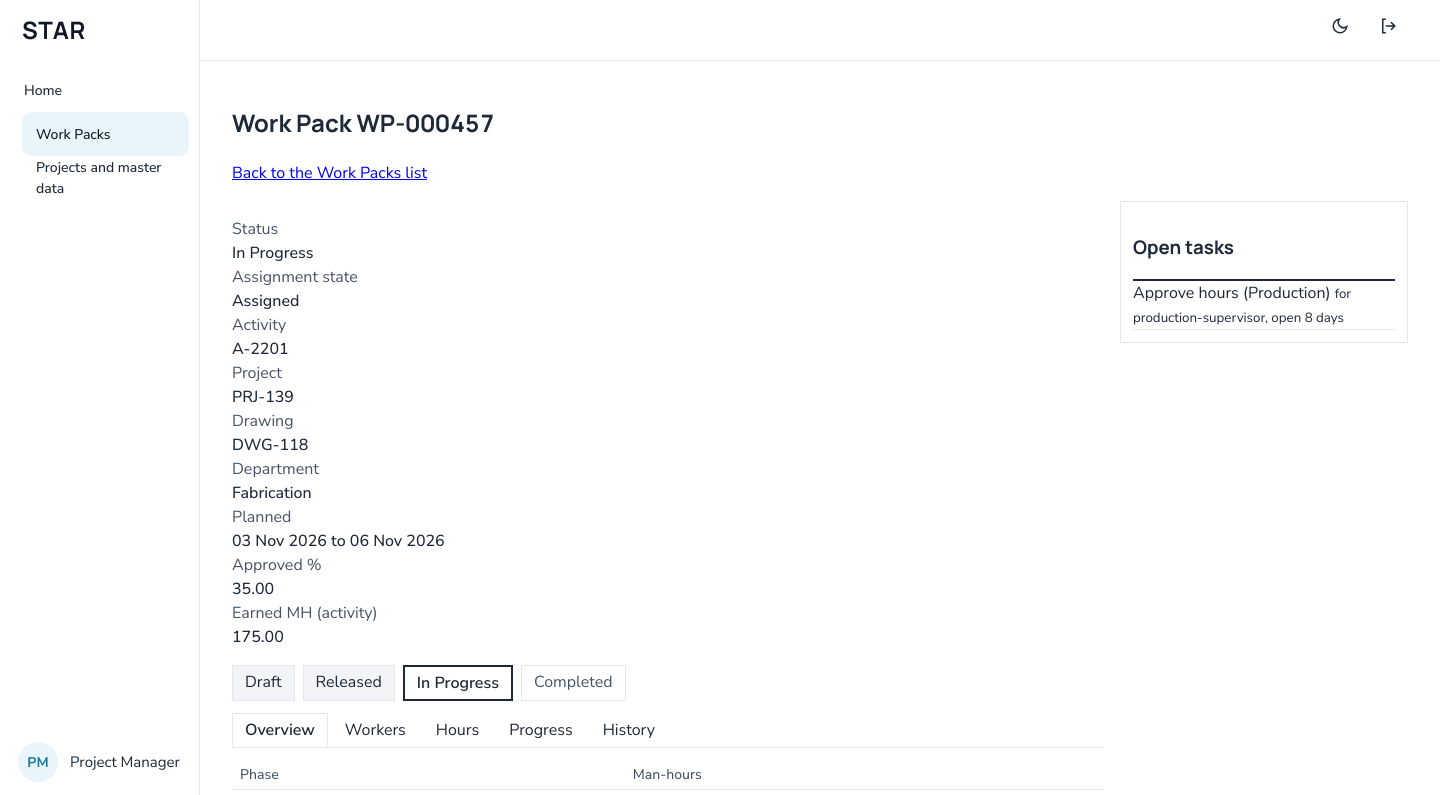
Test case: WorkPackDetailPage › BPA83_pmReopensLockedWeekWithReason
Expected: the element showing "Overview Workers Hours Progress History" is shown, [232,713,1104,748]
Click the tab "Progress": x=541, y=730 [496,713,586,747]
(page scrolled)
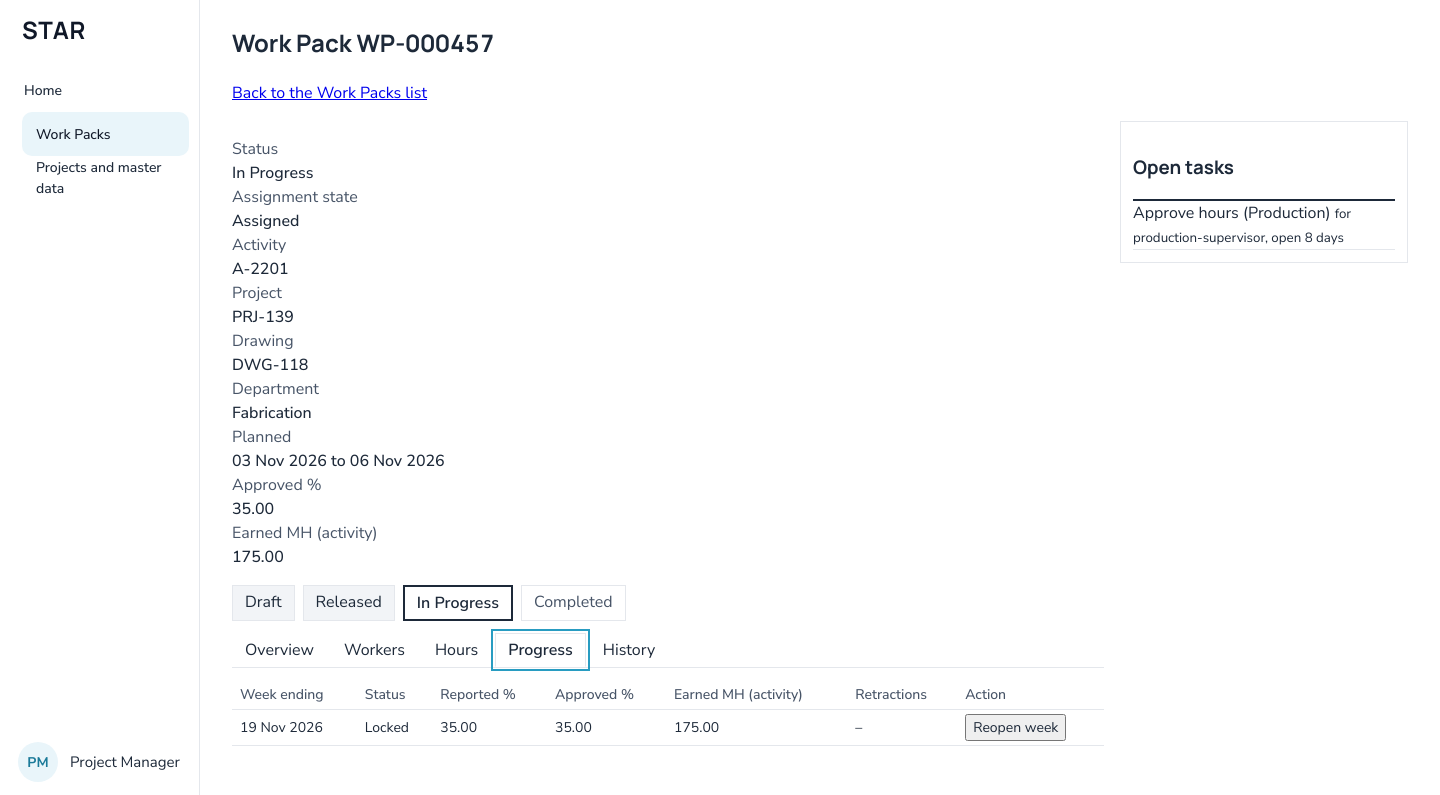
Click the button "Reopen week": x=1016, y=727 [965,714,1066,741]
(page scrolled)
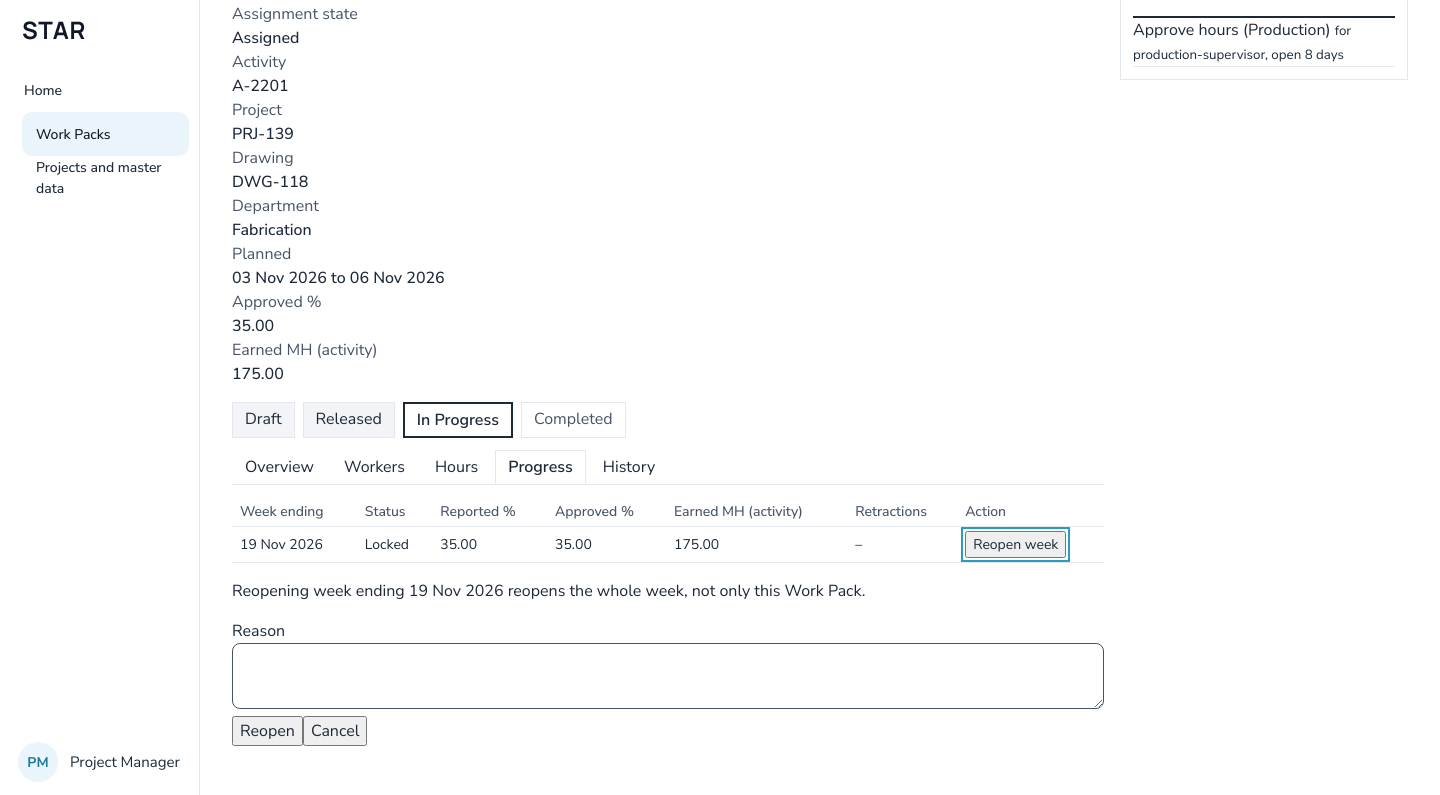
In the text box labelled "Reason": x=668, y=676 [232,643,1104,709], type "FMS report double-counted WP-000457"
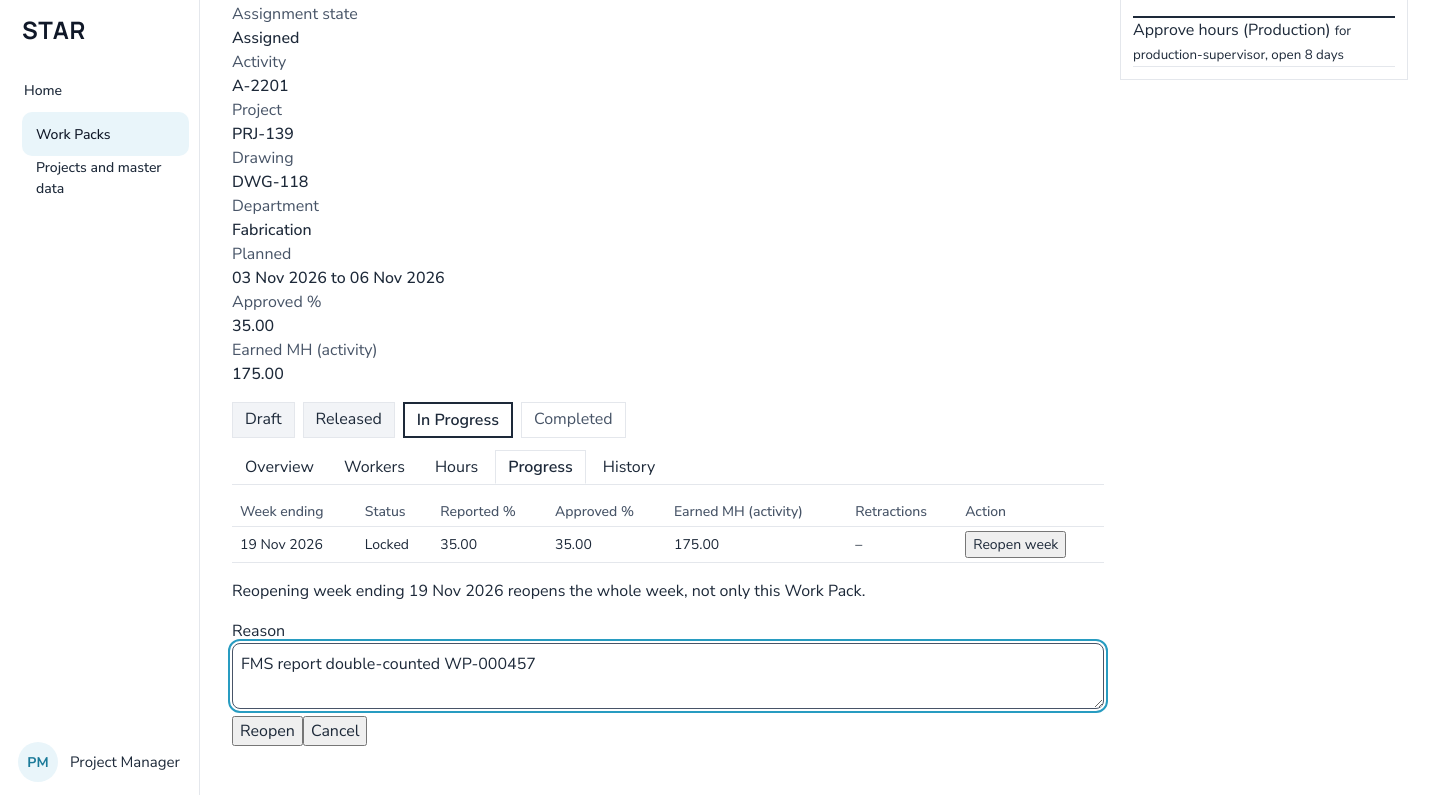
Click the button "Reopen": x=267, y=731 [232,716,303,746]
(page scrolled)
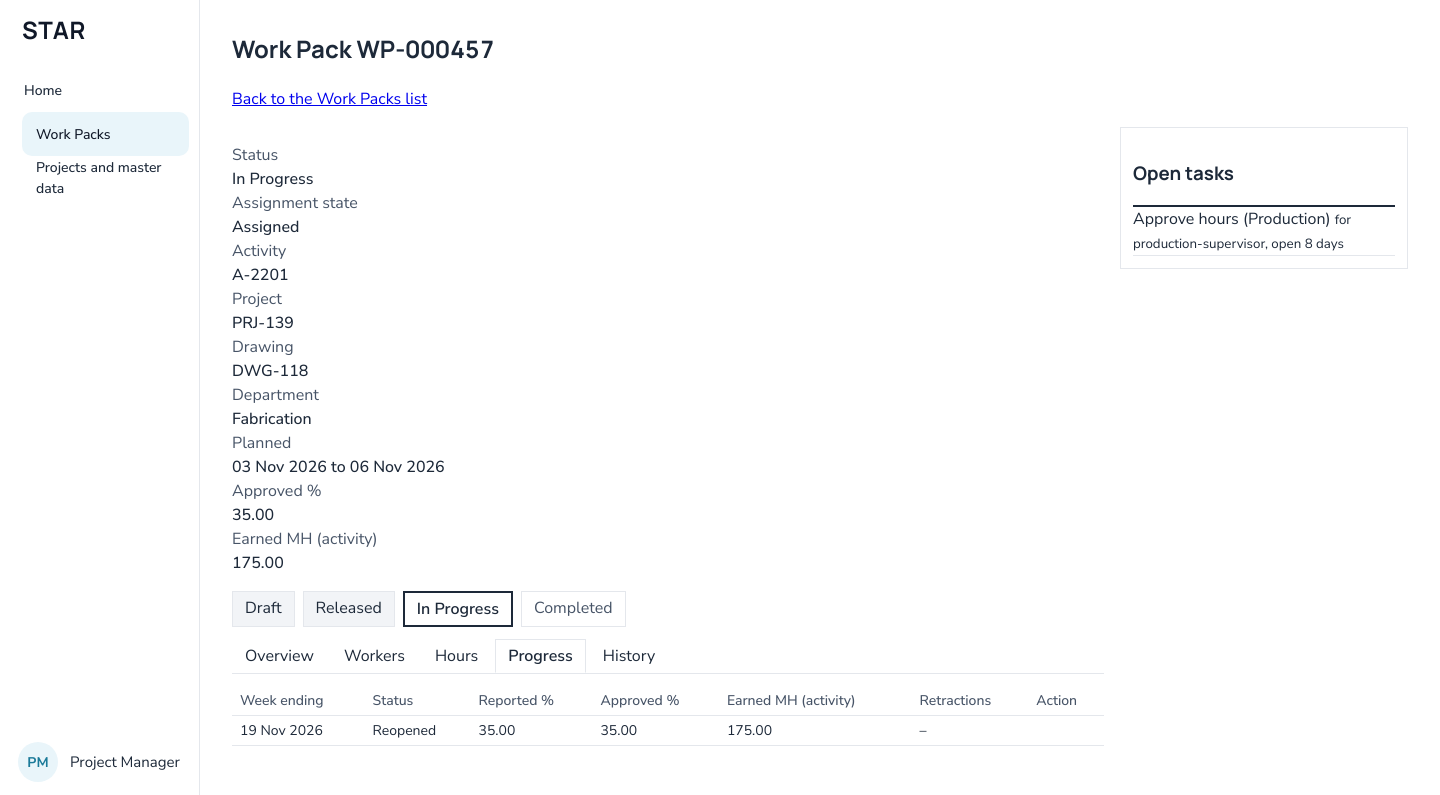
Expected: the row "19 Nov 2026 Reopened 35.00 35.00 175.00 –" is shown, [232,715,1104,745]
